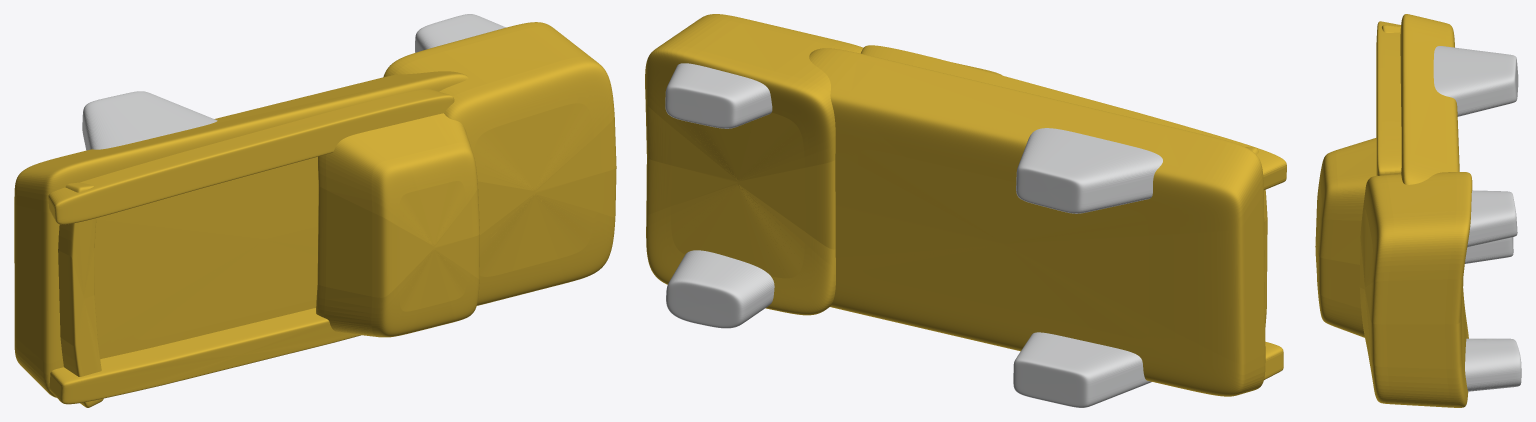
Rendered from 11_pickup_truck.glb.
The picture shows the model from 3 angles, left to right: view 1: azimuth 30°, elevation 25°; view 2: azimuth 150°, elevation 25°; view 3: azimuth 270°, elevation 25°; orthographic projection. The views are drawn at different scales.
Visible parts, largest first — view 1: superquadric_1, superquadric_0, superquadric_2, superquadric_7, superquadric_5, superquadric_9, superquadric_3, superquadric_6; view 2: superquadric_1, superquadric_0, superquadric_3, superquadric_4, superquadric_8, superquadric_6, superquadric_7, superquadric_5; view 3: superquadric_0, superquadric_2, superquadric_1, superquadric_3, superquadric_7, superquadric_8, superquadric_6, superquadric_4.
Boxes of the visible parts, left/top/right/bottom form: superquadric_1: left=14, top=71, right=468, bottom=397; superquadric_0: left=383, top=22, right=616, bottom=305; superquadric_2: left=316, top=113, right=479, bottom=337; superquadric_7: left=48, top=89, right=454, bottom=224; superquadric_5: left=49, top=308, right=360, bottom=404; superquadric_9: left=58, top=182, right=103, bottom=407; superquadric_3: left=82, top=91, right=217, bottom=150; superquadric_6: left=415, top=14, right=505, bottom=52; superquadric_1: left=809, top=48, right=1265, bottom=396; superquadric_0: left=645, top=14, right=863, bottom=315; superquadric_3: left=1016, top=128, right=1162, bottom=213; superquadric_4: left=1013, top=332, right=1151, bottom=407; superquadric_8: left=666, top=250, right=774, bottom=328; superquadric_6: left=665, top=63, right=772, bottom=128; superquadric_7: left=861, top=45, right=1286, bottom=189; superquadric_5: left=1264, top=341, right=1283, bottom=379; superquadric_0: left=1359, top=172, right=1472, bottom=407; superquadric_2: left=1315, top=137, right=1376, bottom=337; superquadric_1: left=1400, top=14, right=1459, bottom=184; superquadric_3: left=1433, top=46, right=1518, bottom=116; superquadric_7: left=1376, top=21, right=1401, bottom=175; superquadric_8: left=1465, top=338, right=1521, bottom=391; superquadric_6: left=1467, top=190, right=1517, bottom=247; superquadric_4: left=1465, top=237, right=1513, bottom=263.
Bounding box in the file's own units: 1 × 0.4007 × 0.3879.
